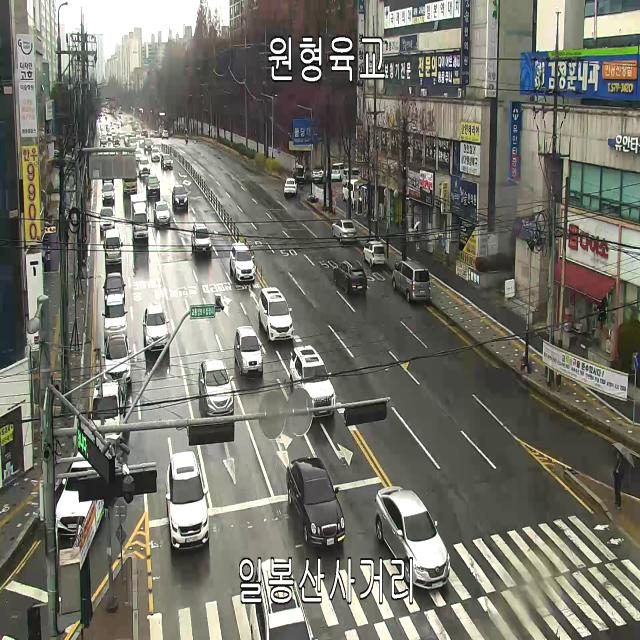Bus: (122, 171, 137, 193)
Car: (375, 486, 450, 590), (286, 456, 346, 548), (250, 559, 314, 640), (166, 451, 209, 549), (56, 451, 99, 538), (290, 345, 335, 417), (199, 359, 234, 416), (259, 288, 293, 341), (392, 259, 430, 303), (102, 334, 132, 384), (234, 326, 263, 376), (143, 305, 169, 351), (102, 294, 128, 340), (333, 259, 367, 294), (230, 243, 255, 281), (103, 272, 126, 307), (363, 241, 386, 268), (192, 223, 212, 252), (332, 219, 356, 242), (342, 179, 362, 206), (172, 185, 188, 212), (154, 201, 170, 227), (99, 207, 115, 231), (342, 169, 362, 186), (296, 164, 312, 184), (146, 175, 160, 197), (102, 183, 115, 202), (332, 162, 344, 182), (313, 167, 328, 181), (139, 157, 150, 176), (284, 178, 297, 193), (161, 154, 173, 170), (151, 147, 160, 162), (144, 139, 153, 154), (128, 136, 137, 150), (102, 178, 114, 186), (136, 148, 142, 162), (100, 136, 107, 148), (124, 133, 132, 143), (113, 136, 120, 146), (140, 136, 146, 147), (159, 124, 164, 137), (162, 130, 168, 140), (141, 130, 148, 138), (106, 134, 112, 142), (150, 130, 154, 138), (154, 131, 158, 138), (120, 134, 124, 140), (186, 130, 188, 142)
Truck: (91, 378, 127, 440), (130, 194, 150, 238), (103, 230, 123, 264)
